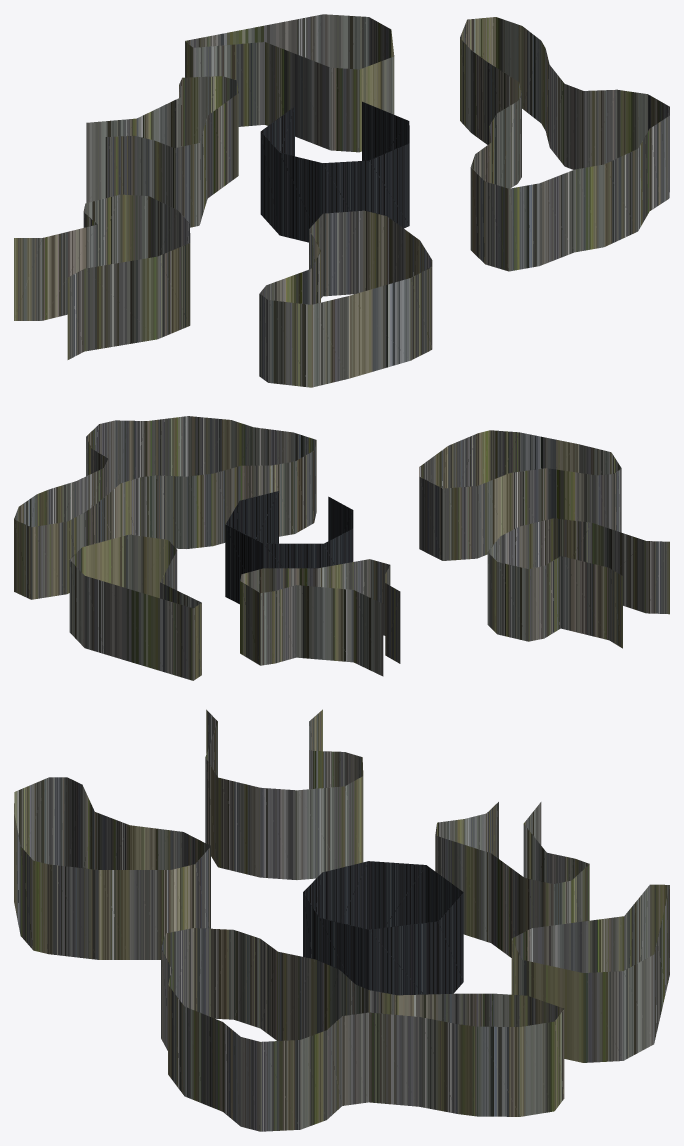
File: MarcaUCXMap2.fbx
3 views of the same model, one above another, from view 1: azimuth 30°, elevation 25°; view 2: azimuth 150°, elevation 25°; view 3: azimuth 270°, elevation 25° (orthographic). The views are drawn at different scales.
Parts seen in each view (by area): view 1: NOAction.002, NOAction.020, NOAction.018, NOAction.027, NOAction.012, NOAction.074, NOAction.095, NOAction.019, NOAction.066, NOAction.003, NOAction.033, NOAction.068 (+51 smaller); view 2: NOAction.092, NOAction.087, NOAction.012, NOAction.002, NOAction.049, NOAction.028, NOAction.014, NOAction.033, NOAction.008, NOAction.088, NOAction.056, NOAction.097 (+60 smaller); view 3: NOAction.070, NOAction.043, NOAction.023, NOAction.006, NOAction.046, NOAction.004, NOAction.073, NOAction.039, NOAction.099, NOAction.044, NOAction.025, NOAction.098 (+64 smaller).
Boxes of the visible parts, x1,y1,x2,y2 form: NOAction.002: [84, 256, 157, 351]; NOAction.020: [349, 278, 410, 378]; NOAction.018: [268, 300, 311, 387]; NOAction.027: [323, 210, 364, 296]; NOAction.012: [42, 224, 97, 320]; NOAction.074: [279, 153, 322, 242]; NOAction.095: [290, 52, 330, 150]; NOAction.019: [311, 296, 348, 387]; NOAction.066: [539, 169, 574, 265]; NOAction.003: [157, 243, 190, 338]; NOAction.033: [604, 149, 637, 246]; NOAction.068: [369, 143, 409, 228]; NOAction.092: [105, 582, 167, 672]; NOAction.087: [296, 585, 353, 662]; NOAction.012: [560, 556, 609, 640]; NOAction.002: [592, 523, 645, 613]; NOAction.049: [31, 521, 67, 599]; NOAction.028: [442, 486, 477, 560]; NOAction.014: [546, 468, 596, 523]; NOAction.033: [188, 416, 231, 476]; NOAction.008: [497, 562, 528, 641]; NOAction.088: [353, 590, 383, 676]; NOAction.056: [155, 475, 186, 548]; NOAction.097: [129, 534, 168, 598]; NOAction.070: [368, 921, 437, 995]; NOAction.043: [368, 1012, 419, 1106]; NOAction.023: [48, 864, 98, 959]; NOAction.006: [297, 786, 344, 879]; NOAction.046: [477, 1026, 520, 1116]; NOAction.004: [218, 777, 260, 877]; NOAction.073: [368, 861, 426, 929]; NOAction.039: [260, 1040, 300, 1131]; NOAction.099: [583, 971, 623, 1062]; NOAction.044: [419, 1017, 457, 1113]; NOAction.025: [130, 870, 170, 959]; NOAction.098: [522, 960, 583, 1062].
Size of the model in its own units: 6475 by 823 by 5405.
2 materials, 2 textured.
